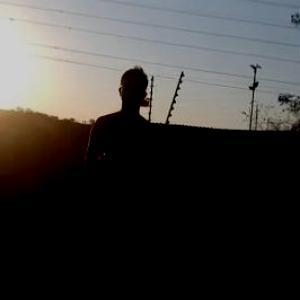follow: (80, 60, 164, 299)
